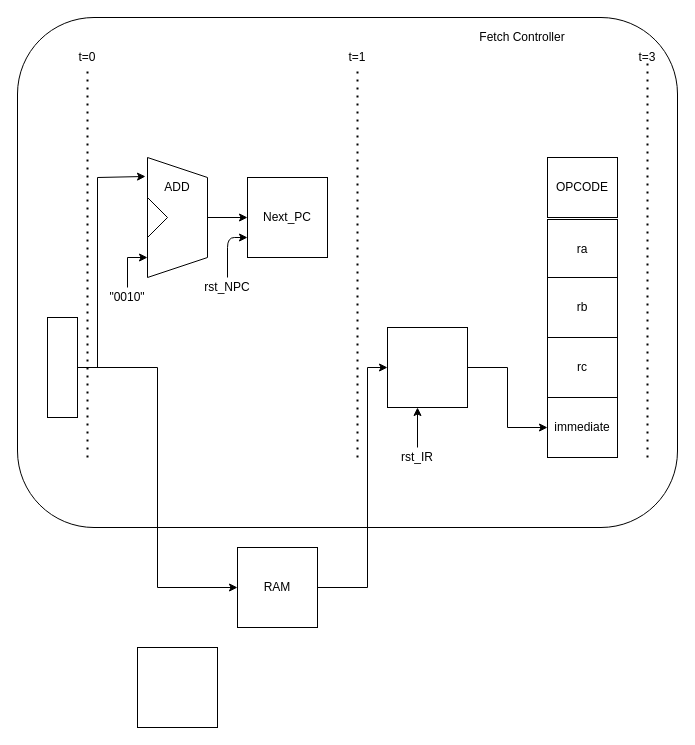
Image size: 695x745. Some labels were removed from this diagram. The box of each missing label's shape, as (x1, y1, x2, y2) in pixels:
Instruction Register: (386, 326, 468, 408)
PC: (46, 316, 78, 418)
This shape defines synchronous circuit: (136, 646, 218, 728)
